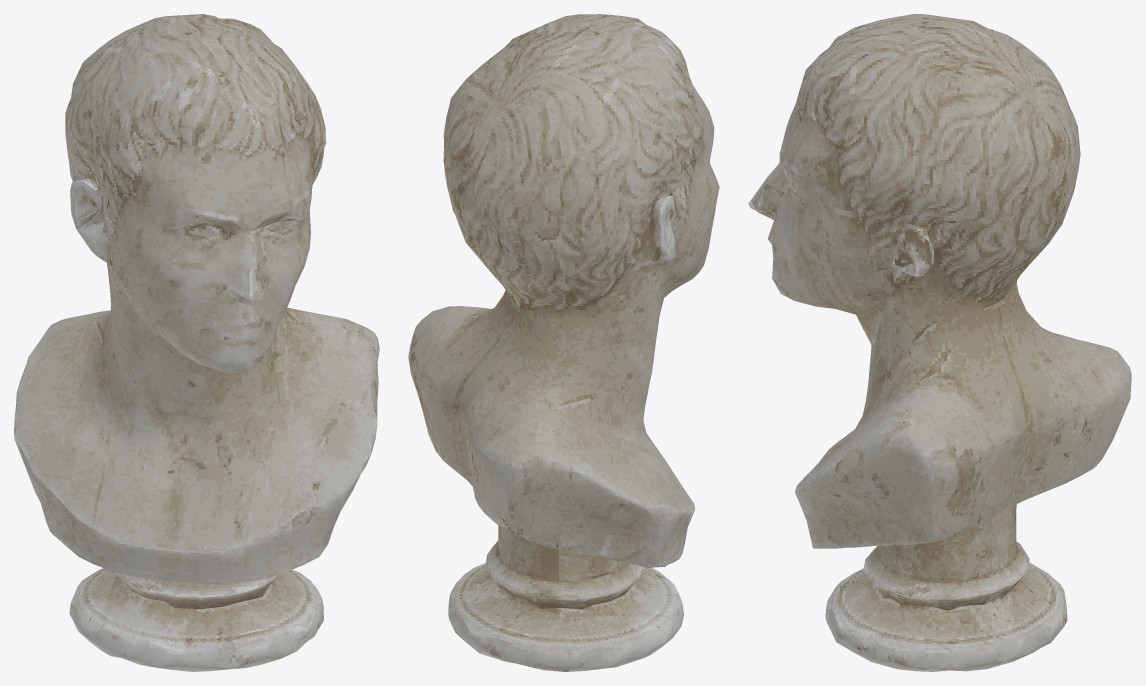
Rendered from marble_bust_01.glb.
The picture shows the model from 3 angles, left to right: view 1: azimuth 30°, elevation 25°; view 2: azimuth 150°, elevation 25°; view 3: azimuth 270°, elevation 25°; orthographic projection. The views are drawn at different scales.
Visible parts, largest first — view 1: mesh; view 2: mesh; view 3: mesh.
Part boxes in pixels (box(x1,y1,x2,y2)): mesh: box(14, 14, 379, 671); mesh: box(408, 14, 719, 671); mesh: box(748, 14, 1131, 671).
Bounding box in the file's own units: 19.01 × 36.05 × 21.03.
Materials: 1 (1 with a texture image).
